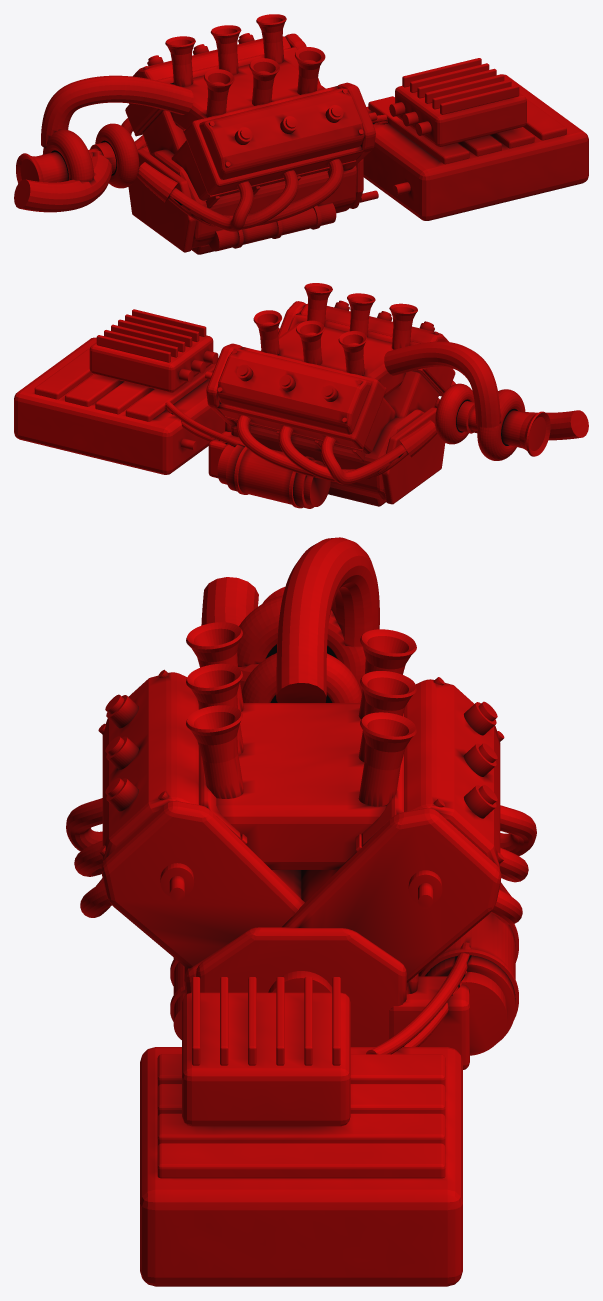
File: engine.glb
The picture shows the model from 3 angles, top to bottom: view 1: azimuth 30°, elevation 25°; view 2: azimuth 150°, elevation 25°; view 3: azimuth 270°, elevation 25°; orthographic projection. The views are drawn at different scales.
Parts seen in each view (by area): view 1: v6_carbon, energyStore_body, v6_metal, v6_body, turbo_metal, turbo_carbon, electronics_carbon, electronics_body, energyStore_carbon, turbo_body, v6_dark, electronics_dark; view 2: v6_carbon, energyStore_body, v6_body, v6_metal, energyStore_carbon, mguK_body, turbo_carbon, turbo_metal, electronics_carbon, electronics_body, turbo_body, v6_dark (+2 smaller); view 3: v6_carbon, energyStore_body, v6_metal, energyStore_carbon, electronics_body, turbo_carbon, mguK_body, v6_dark, turbo_metal, electronics_carbon, turbo_body, v6_body (+1 smaller).
Part boxes in pixels (left/top/right/bottom): v6_carbon: left=128, top=33, right=375, bottom=254; energyStore_body: left=363, top=74, right=588, bottom=220; v6_metal: left=121, top=14, right=343, bottom=251; v6_body: left=125, top=47, right=363, bottom=248; turbo_metal: left=14, top=123, right=178, bottom=212; turbo_carbon: left=41, top=75, right=193, bottom=147; electronics_carbon: left=402, top=58, right=519, bottom=114; electronics_body: left=395, top=85, right=526, bottom=146; energyStore_carbon: left=368, top=96, right=566, bottom=164; turbo_body: left=16, top=129, right=94, bottom=183; v6_dark: left=134, top=34, right=378, bottom=248; electronics_dark: left=389, top=102, right=431, bottom=135; v6_carbon: left=206, top=300, right=448, bottom=506; energyStore_body: left=14, top=337, right=224, bottom=474; v6_body: left=218, top=313, right=455, bottom=500; v6_metal: left=236, top=283, right=455, bottom=484; energyStore_carbon: left=34, top=347, right=216, bottom=421; mguK_body: left=208, top=431, right=330, bottom=508; turbo_carbon: left=384, top=341, right=500, bottom=427; turbo_metal: left=398, top=383, right=588, bottom=457; electronics_carbon: left=96, top=309, right=206, bottom=362; electronics_body: left=89, top=335, right=213, bottom=392; turbo_body: left=477, top=389, right=550, bottom=460; v6_dark: left=205, top=302, right=443, bottom=451; v6_carbon: left=101, top=672, right=501, bottom=1046; energyStore_body: left=140, top=1047, right=462, bottom=1286; v6_metal: left=66, top=622, right=536, bottom=1039; energyStore_carbon: left=157, top=1054, right=445, bottom=1178; electronics_body: left=182, top=992, right=350, bottom=1126; turbo_carbon: left=276, top=537, right=379, bottom=702; mguK_body: left=389, top=912, right=518, bottom=1069; v6_dark: left=98, top=669, right=504, bottom=1021; turbo_metal: left=201, top=577, right=361, bottom=702; electronics_carbon: left=192, top=977, right=340, bottom=1065; turbo_body: left=237, top=587, right=365, bottom=693; v6_body: left=184, top=706, right=418, bottom=994.
Size of the model in its own units: 1.7 by 0.5317 by 0.6706.
